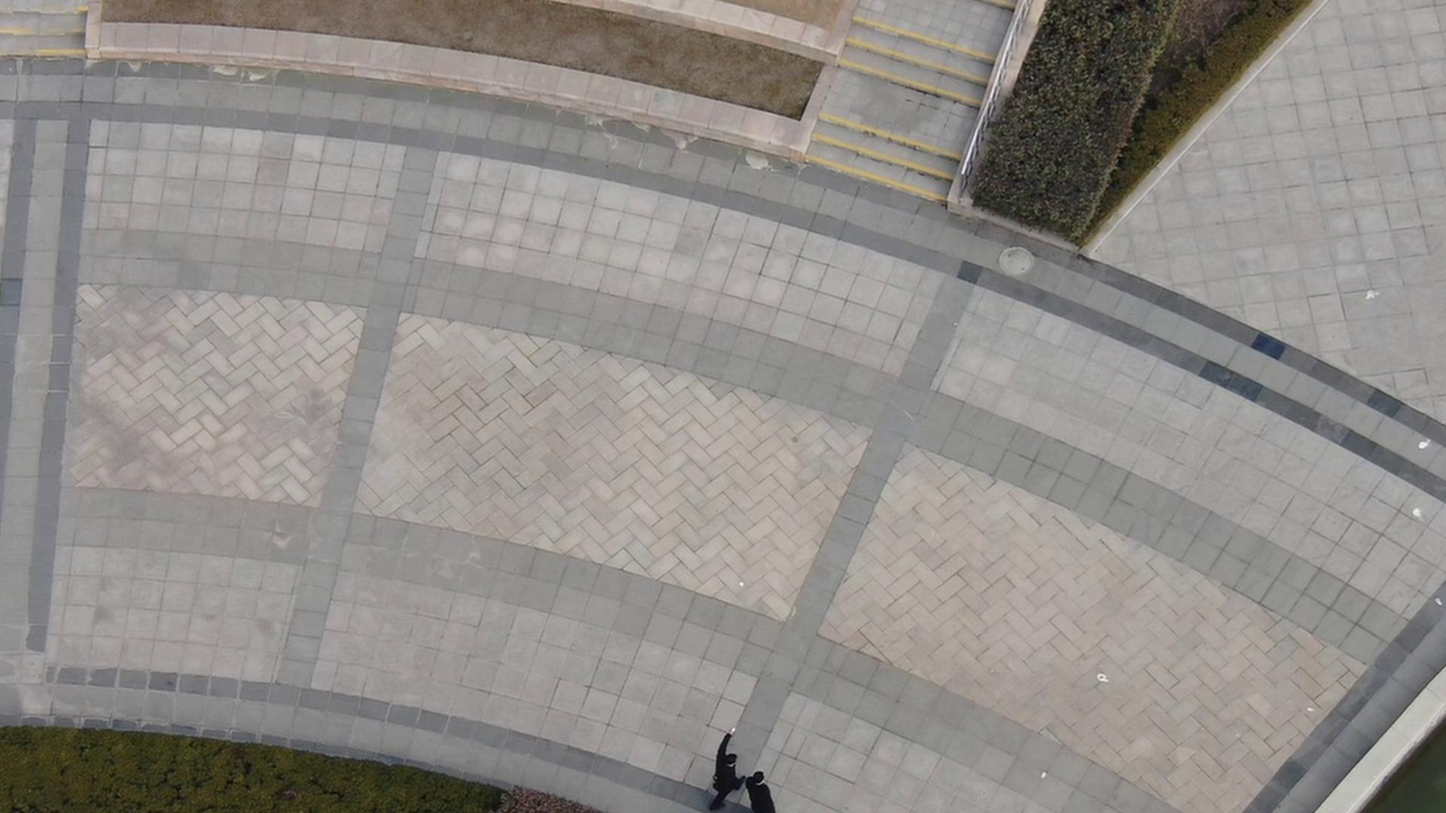human: (709, 711, 746, 806), (746, 755, 790, 813)
